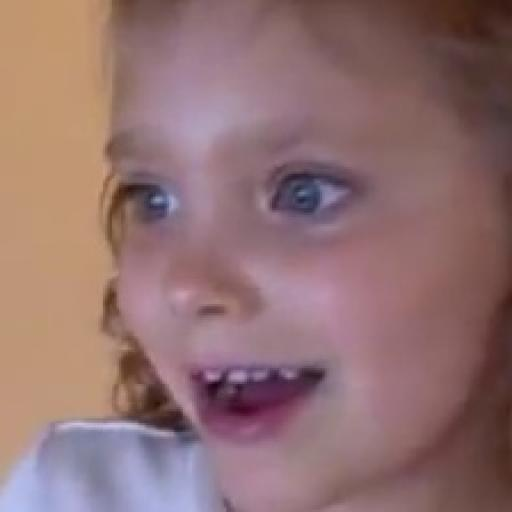Autism: (82, 23, 512, 495)
